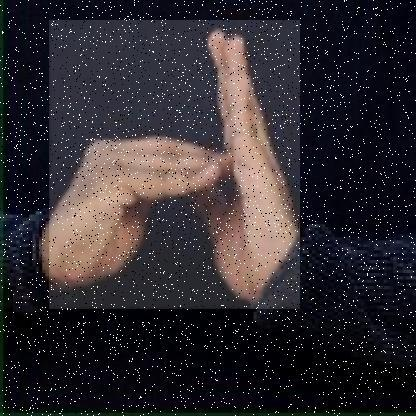Z: (48, 20, 300, 310)
